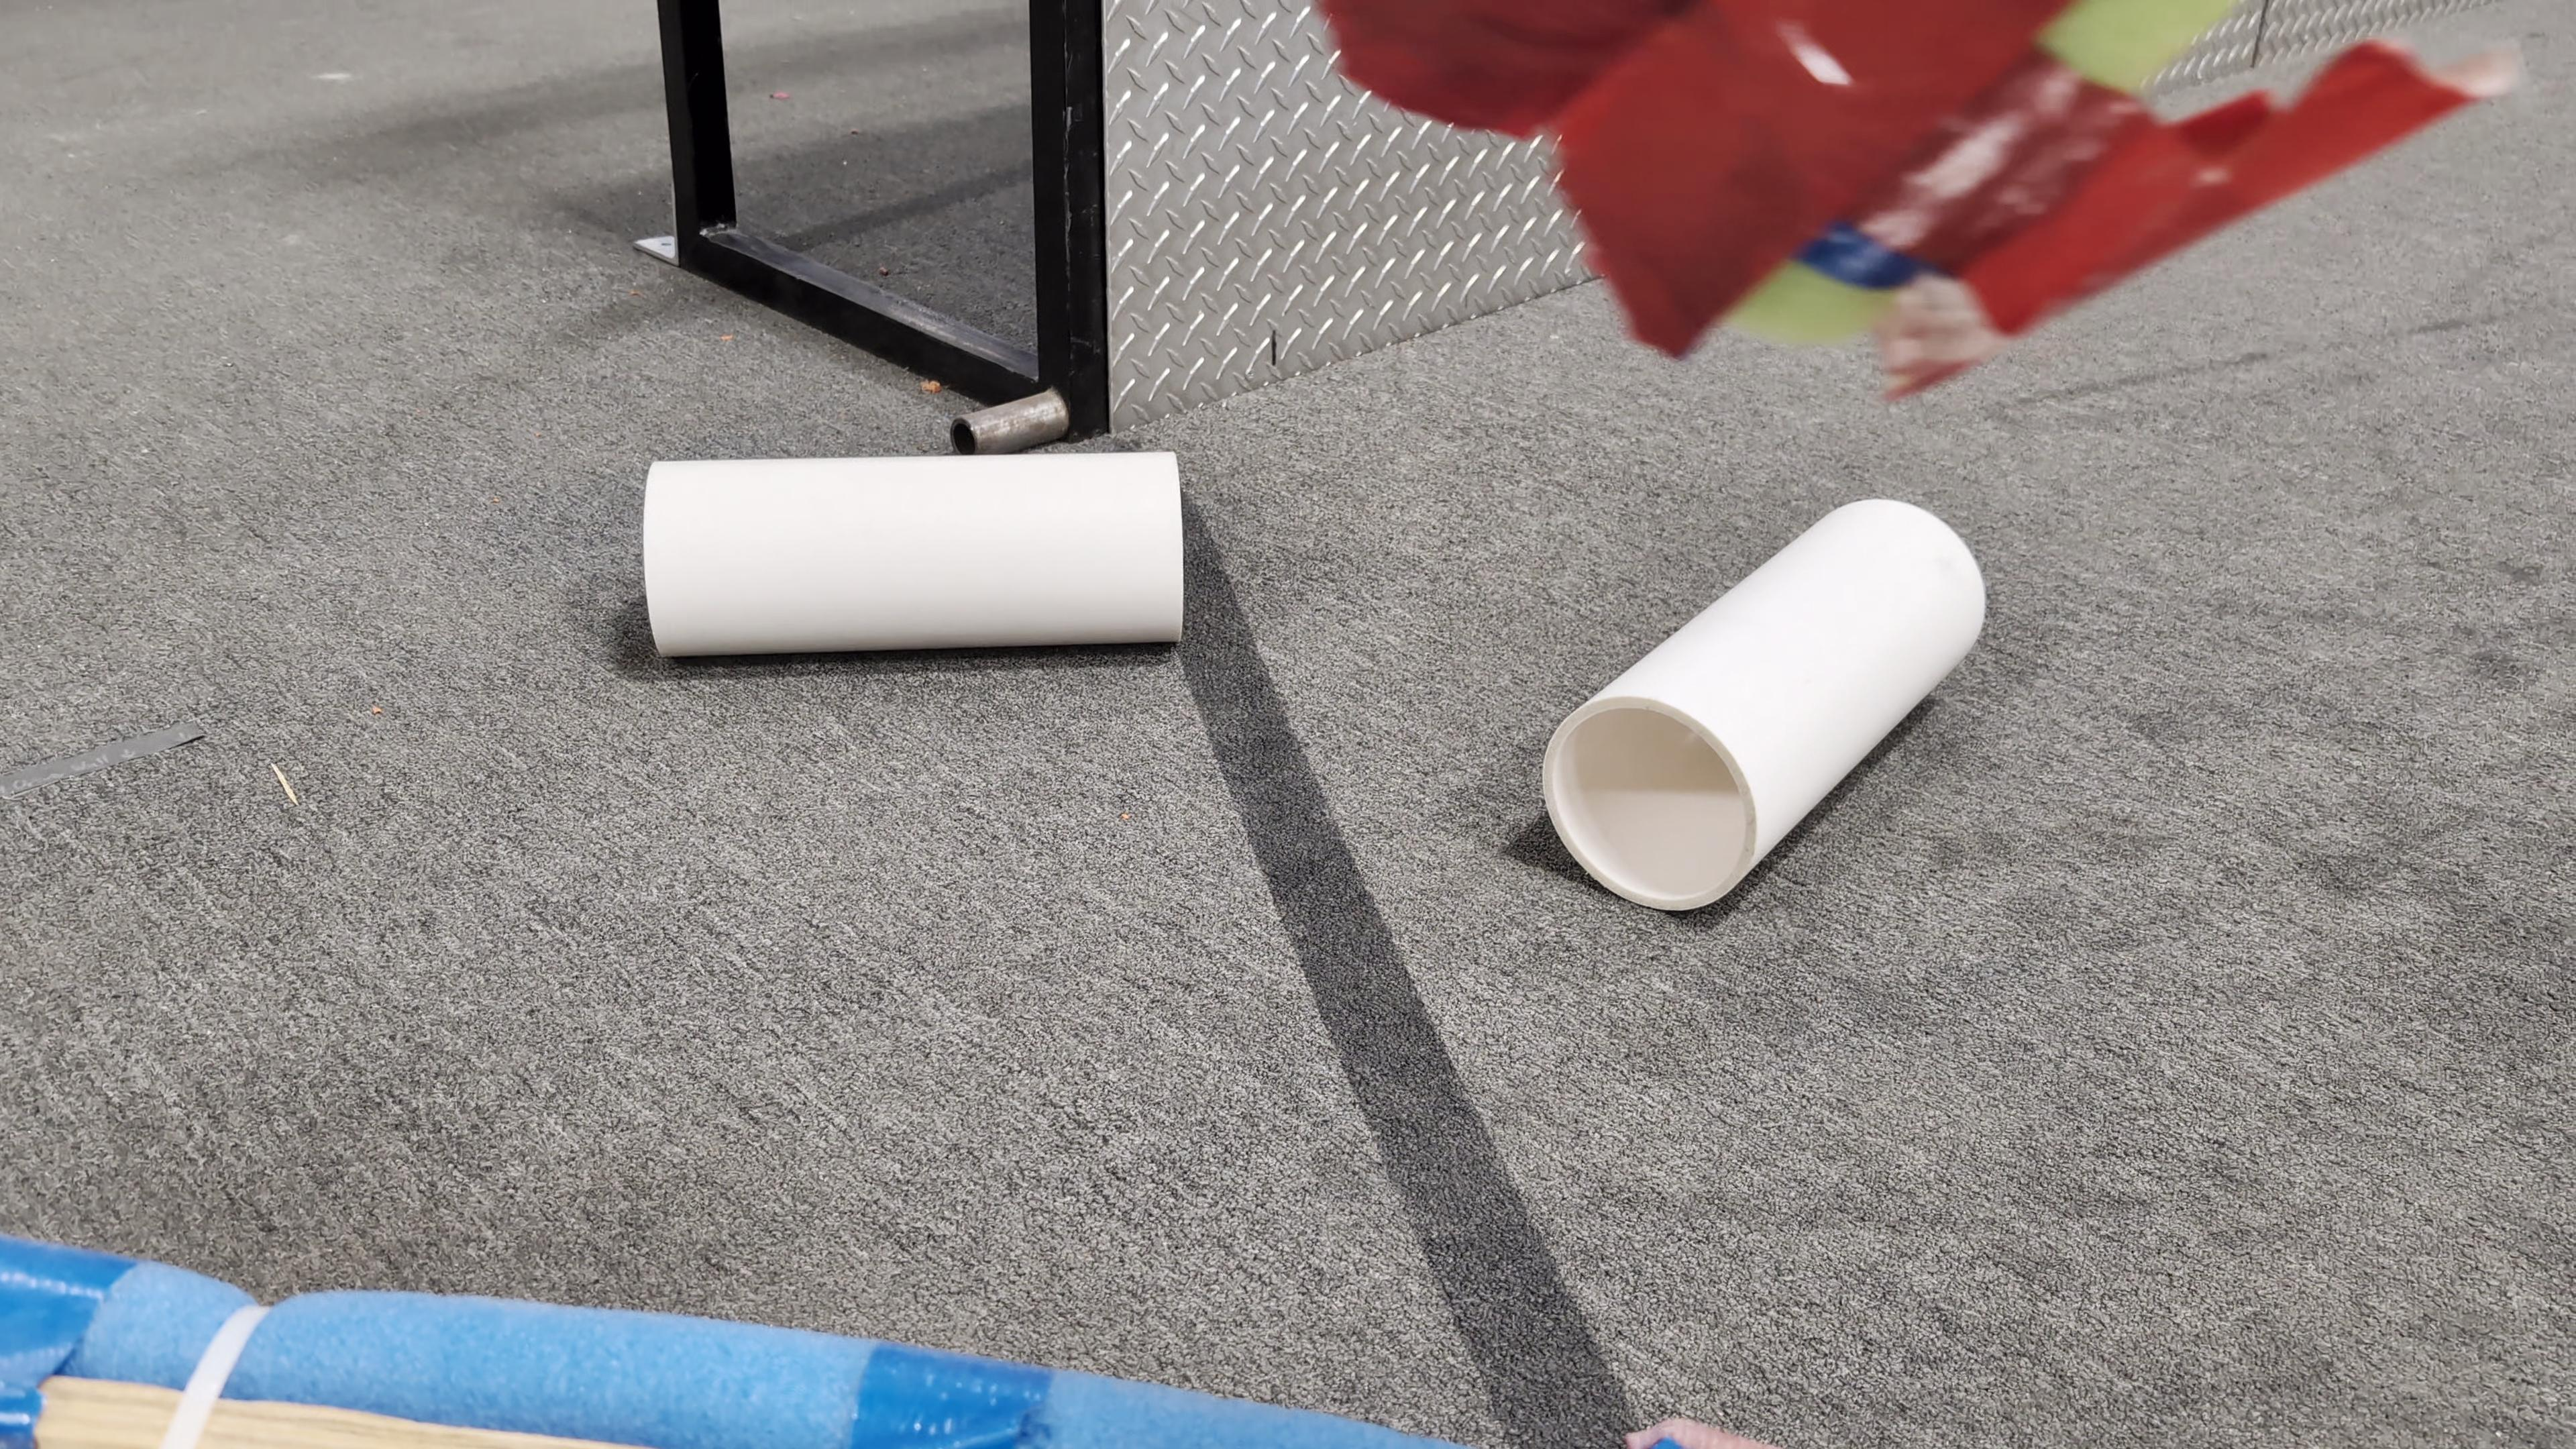coral: (1543, 497, 1985, 911), (646, 451, 1184, 656)
